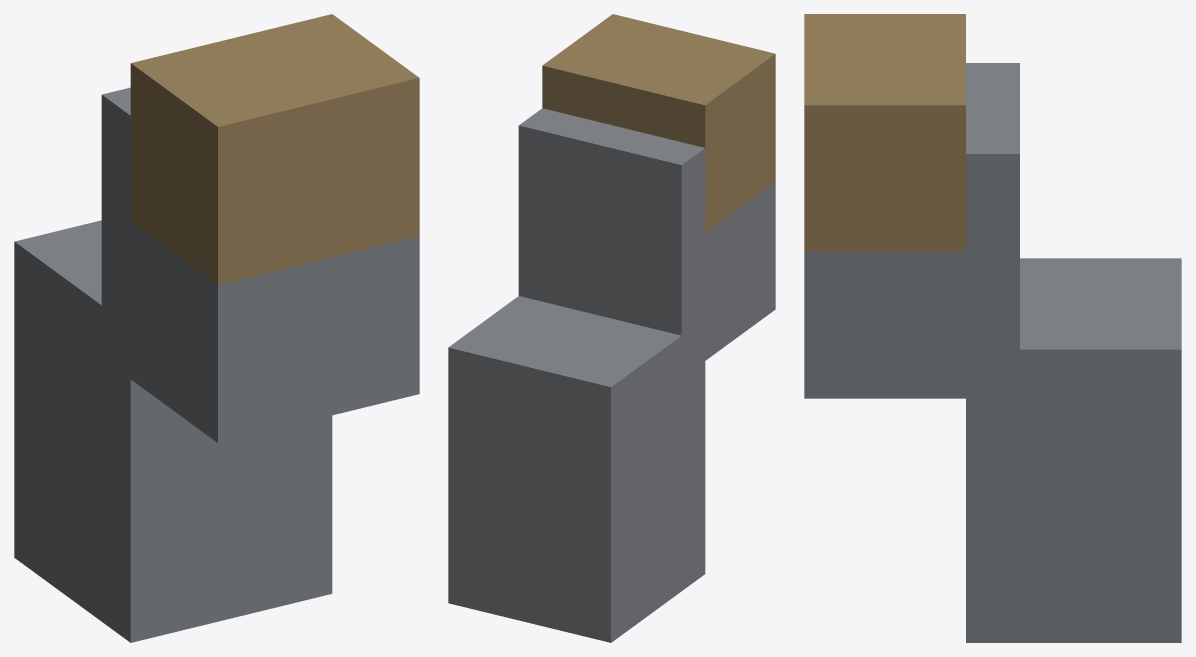
File: leg_br_thigh.glb
The picture shows the model from 3 angles, left to right: view 1: azimuth 30°, elevation 25°; view 2: azimuth 150°, elevation 25°; view 3: azimuth 270°, elevation 25°; orthographic projection. The views are drawn at different scales.
Bounding box in the file's own units: 4 × 11 × 7.
